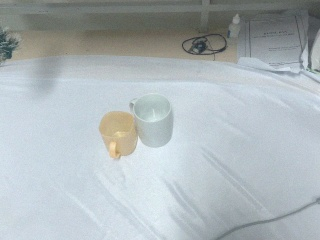cup: (129, 92, 175, 148), (99, 111, 139, 159)
